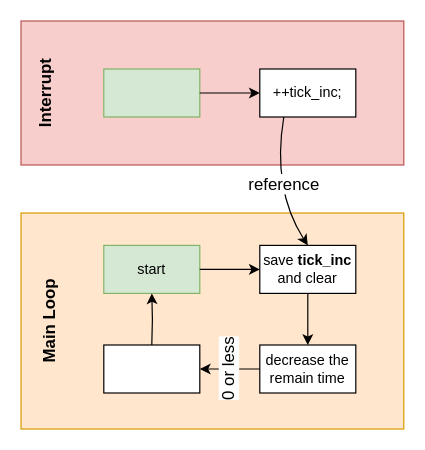
This 425x450 diagram has some shape labels left out. Here are the shapes that lost their labels. From the top down, the box of each, then its label:
(103, 68, 200, 117): system tick
(103, 344, 200, 393): do task and reset time
